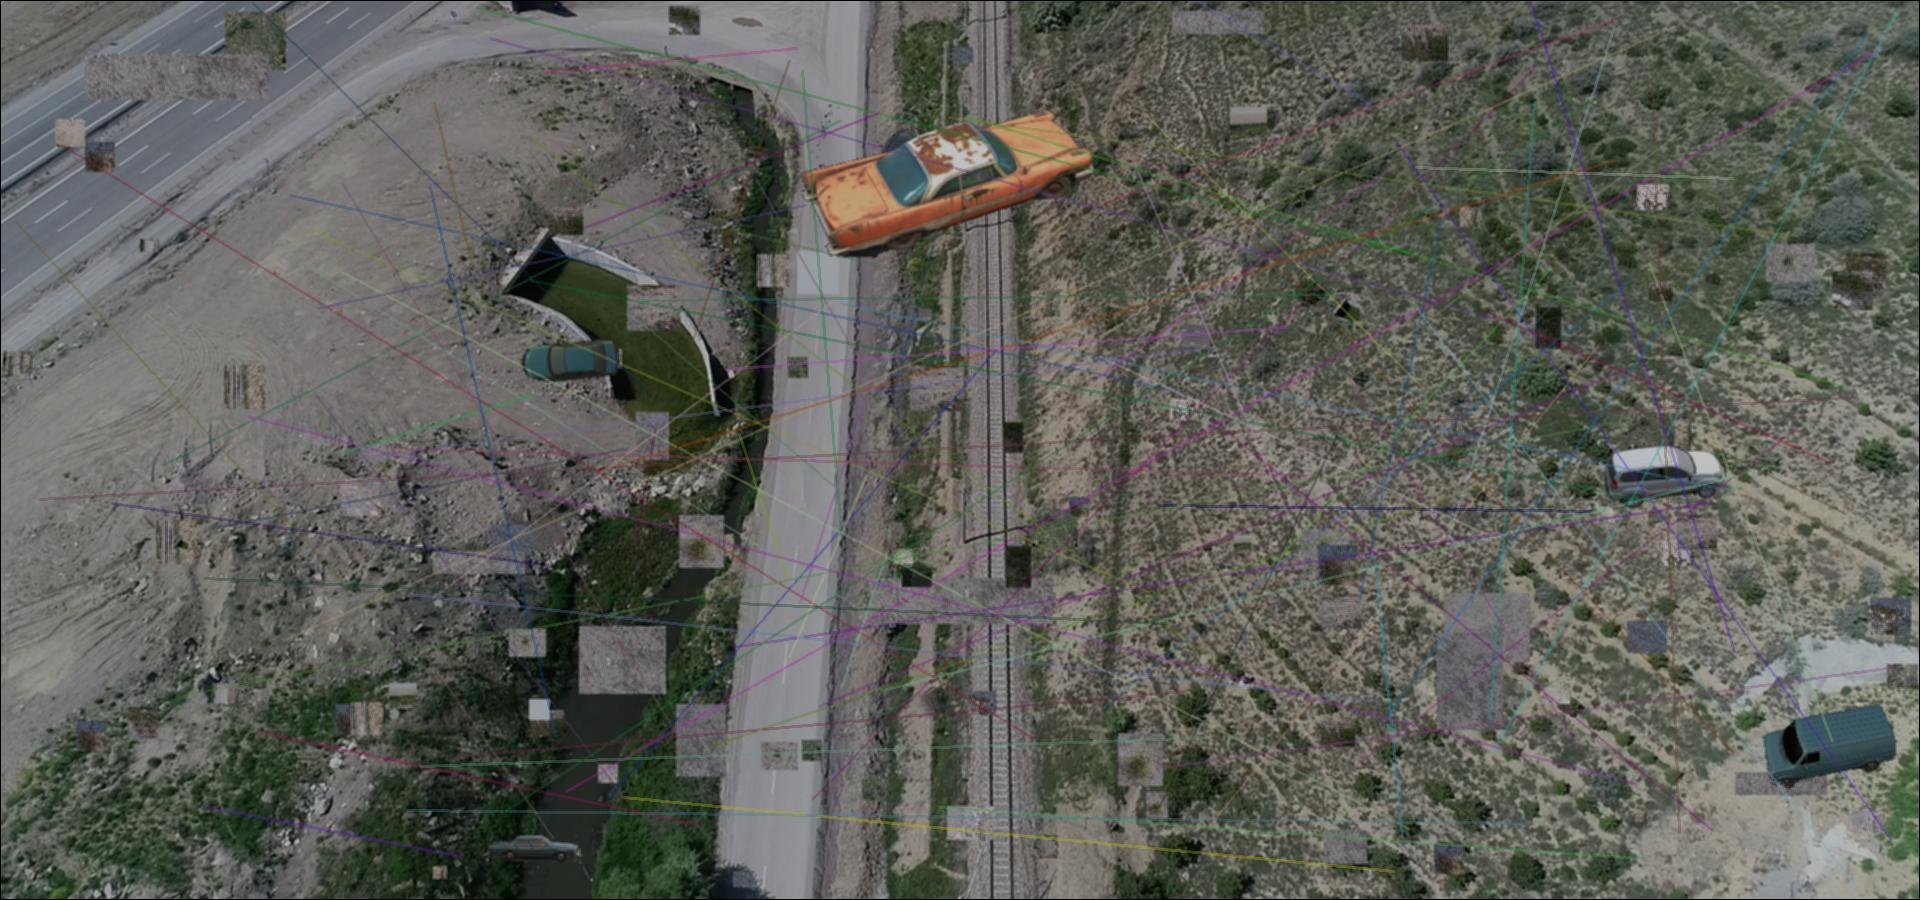arac: (785, 105, 1111, 257), (1761, 703, 1897, 790), (880, 130, 988, 218), (1604, 441, 1730, 511), (520, 339, 620, 382), (482, 833, 582, 863)
